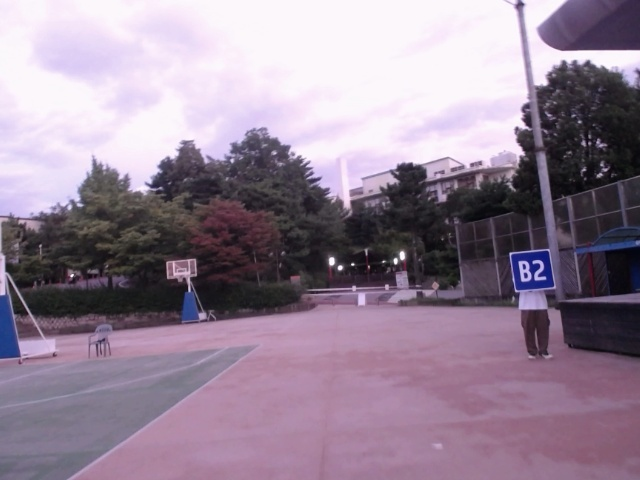delivery_b2: (509, 249, 557, 294)
